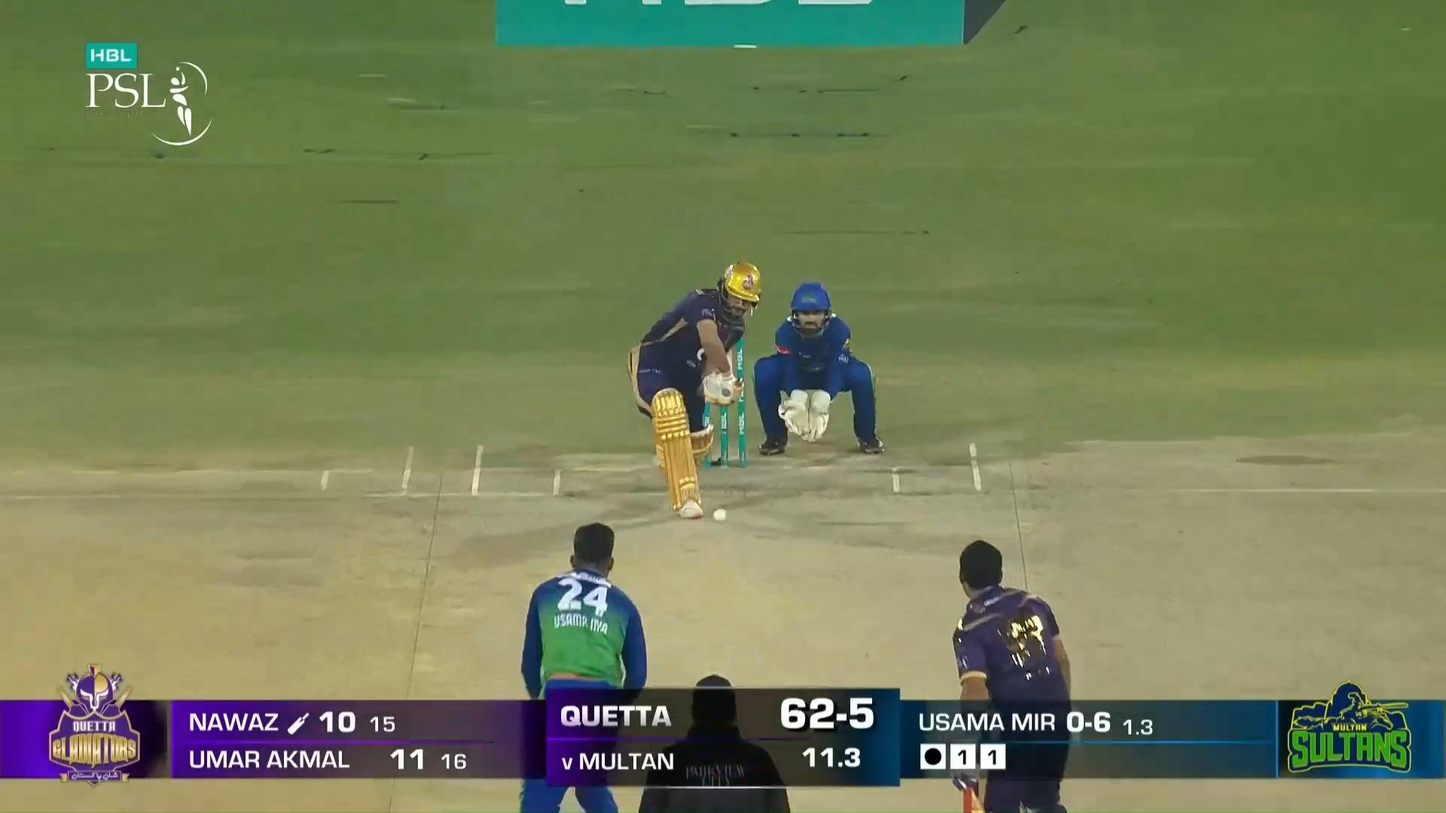batsman: (625, 260, 763, 522)
